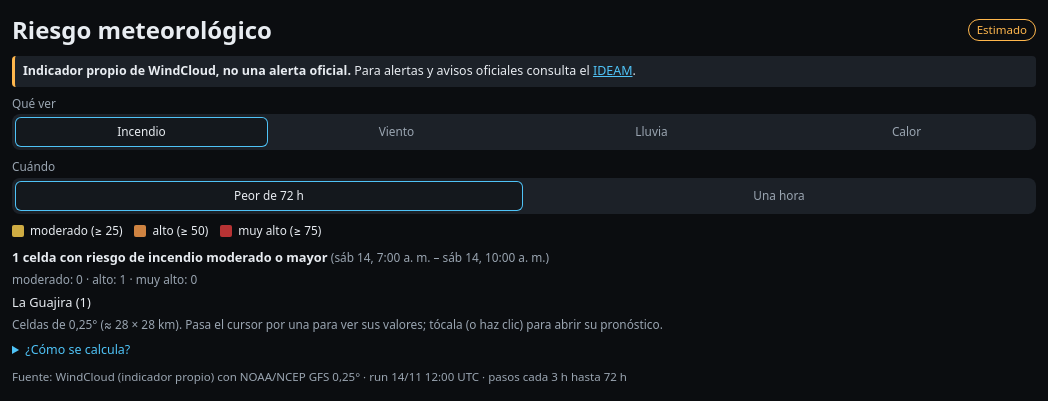
Test: RiskTab › resume el peor caso de 72 h y cambia de vista
The width and height of the screenshot is (1048, 401).
Check: the text "1 celda con riesgo de incendio moderado o mayor" is shown, box x1=12 y1=248 x2=328 y2=266
Check: the text "moderado: 0 · alto: 1 · muy alto: 0" is shown, box x1=12 y1=271 x2=197 y2=287
Click the radio button labelled "Lluvia" at {"x": 652, "y": 132}, box x1=525 y1=118 x2=778 y2=147
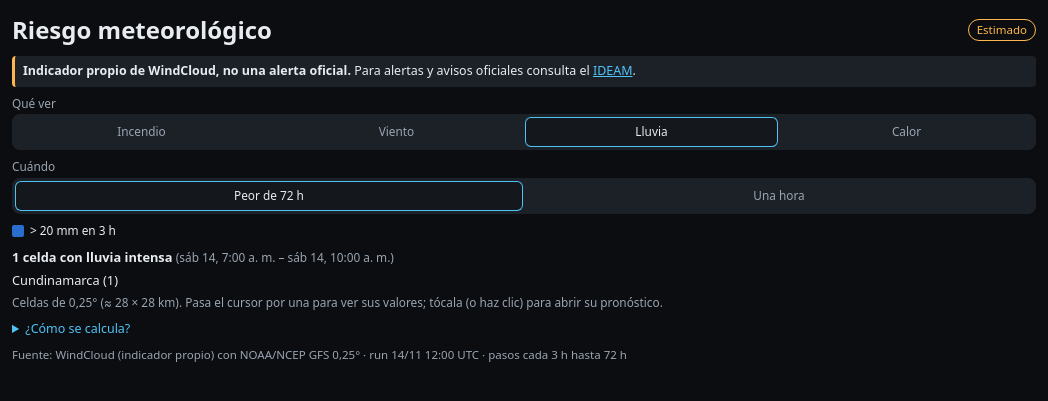
Check: the text "1 celda con lluvia intensa" is shown, box x1=12 y1=248 x2=172 y2=266
Check: the text "Cundinamarca (1)" is shown, box x1=12 y1=271 x2=118 y2=289
Check: the list item "> 20 mm en 3 h" is shown, box x1=12 y1=222 x2=116 y2=240
